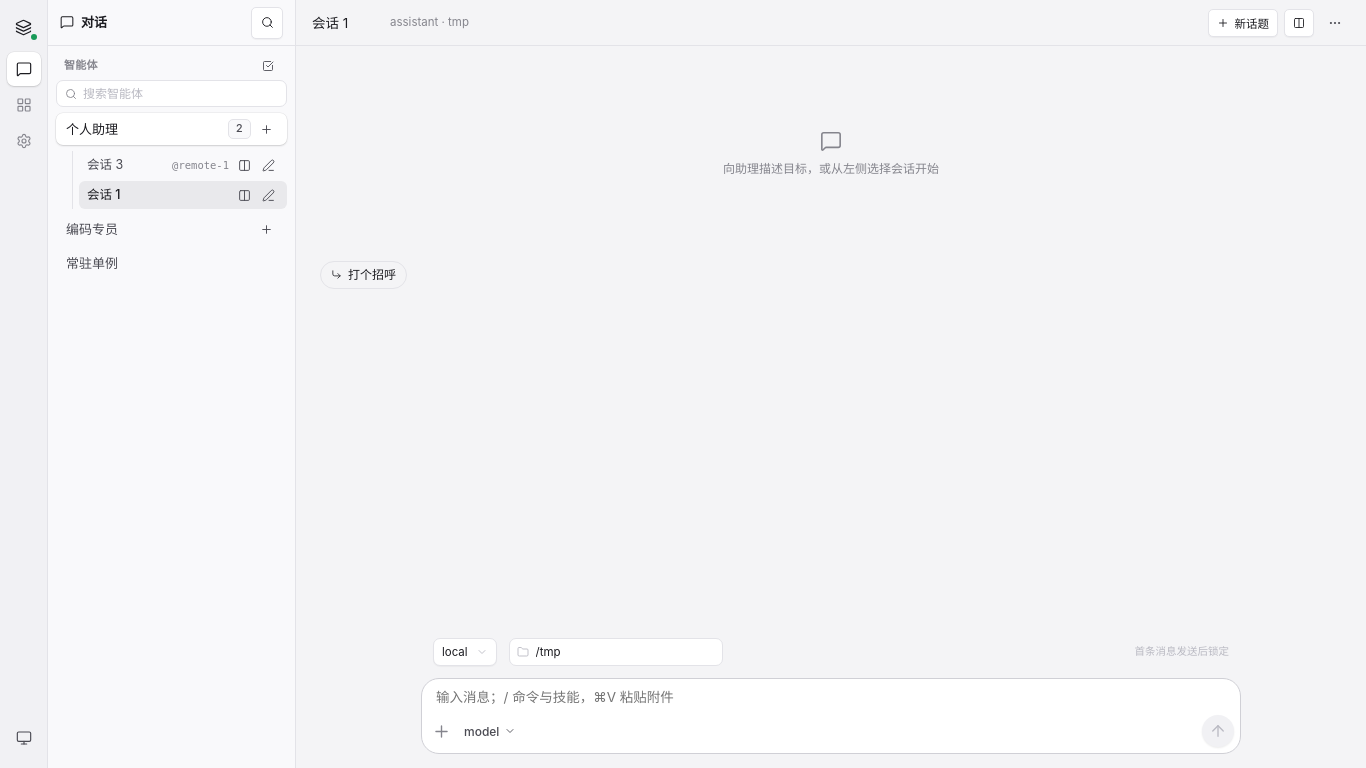
Test: 有历史智能体名称入口：点击站位行进待命态而非旧会话，且展开列表时保持激活
Expected: the element with class "agent-conversations-list" is shown, [72,151,287,209]
Click the button with class "nav-item-main" showing "个人助理" at (143, 129), box [66,118,220,140]
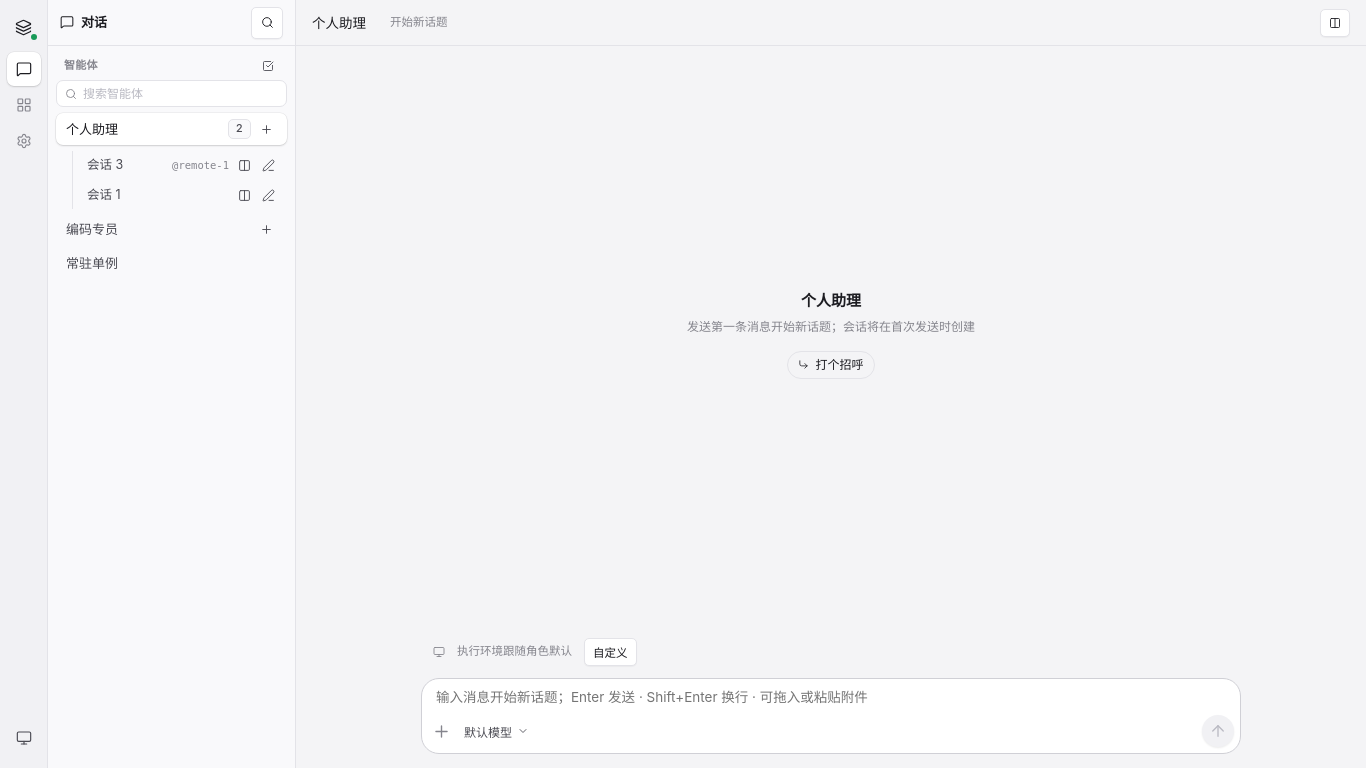
Expected: the element with class "agent-conversations-list" is shown, [72,151,287,209]
Now the element with class "agent-standby-pane" is shown
